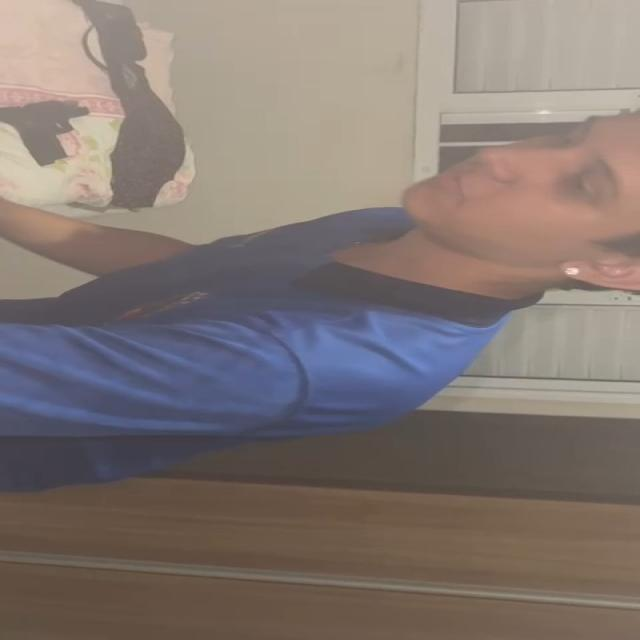gun: (0, 99, 93, 165)
